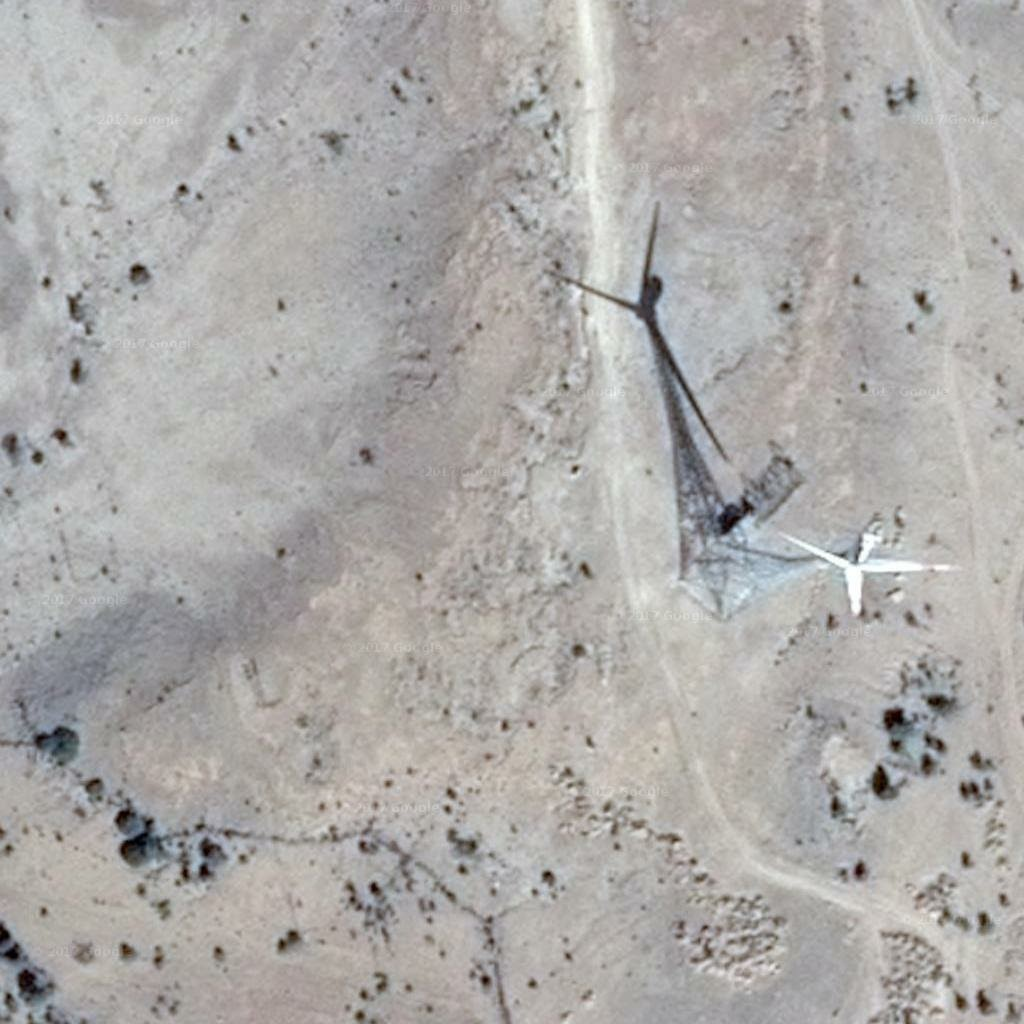Windmill: (549, 202, 756, 561)
